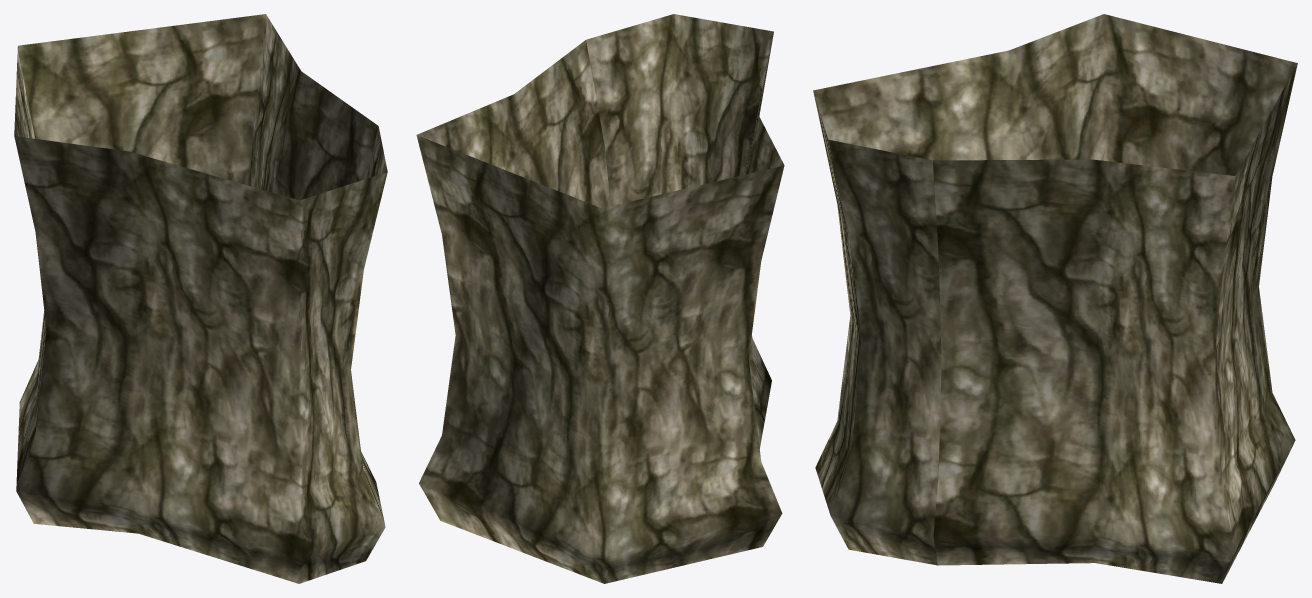
File: CB_NEWPLAYSURFACE_CB_PLAYSURFACE47.fbx
3 renders of one model, left to right at view 1: azimuth 30°, elevation 25°; view 2: azimuth 150°, elevation 25°; view 3: azimuth 270°, elevation 25°, orthographic. The views are drawn at different scales.
Visible parts, largest first — view 1: CB_NEWPLAYSURFACE_CB_PLAYSURFACE47; view 2: CB_NEWPLAYSURFACE_CB_PLAYSURFACE47; view 3: CB_NEWPLAYSURFACE_CB_PLAYSURFACE47.
Boxes of the visible parts, bbox=[...] form: CB_NEWPLAYSURFACE_CB_PLAYSURFACE47: bbox=[14, 14, 387, 583]; CB_NEWPLAYSURFACE_CB_PLAYSURFACE47: bbox=[416, 14, 784, 583]; CB_NEWPLAYSURFACE_CB_PLAYSURFACE47: bbox=[813, 14, 1297, 583].
Size of the model in its own units: 56175 by 67435 by 71008.
Materials: 2 (2 with a texture image).
